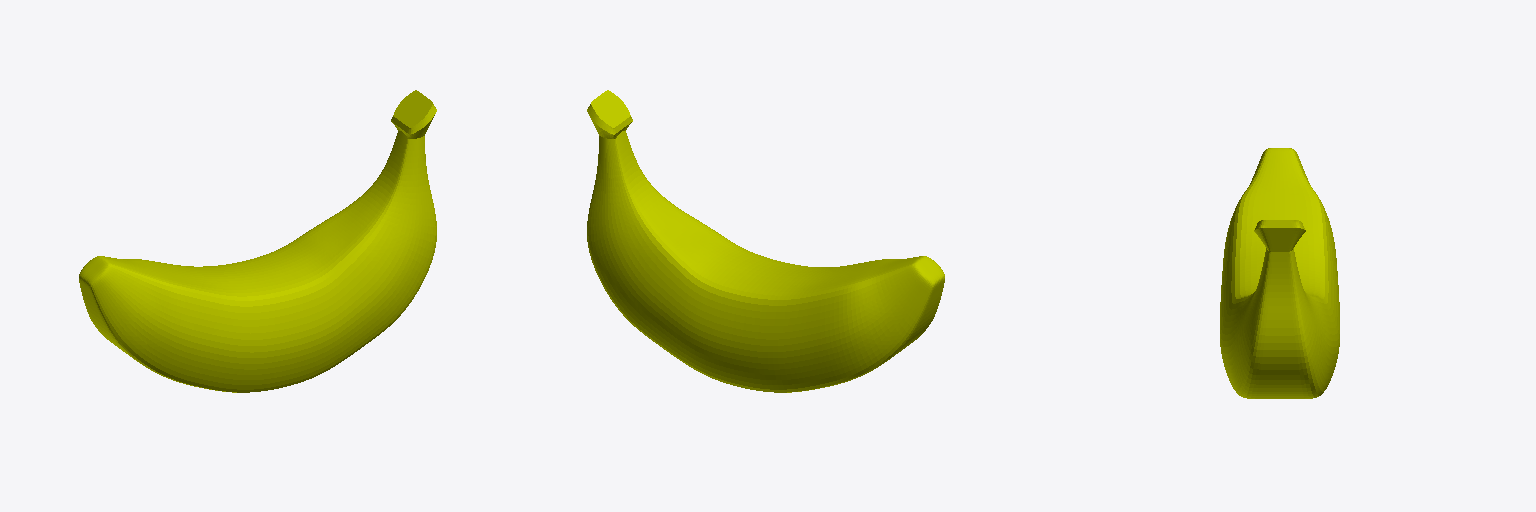
File: Bananas.obj
3 renders of one model, left to right at view 1: azimuth 30°, elevation 25°; view 2: azimuth 150°, elevation 25°; view 3: azimuth 270°, elevation 25°, orthographic.
Visible parts, largest first — view 1: Cube.001_Cube.002; view 2: Cube.001_Cube.002; view 3: Cube.001_Cube.002.
Boxes of the visible parts, box(x1,y1,x2,y2) form: Cube.001_Cube.002: box(79, 90, 436, 392); Cube.001_Cube.002: box(587, 90, 944, 392); Cube.001_Cube.002: box(1220, 148, 1339, 398).
Size of the model in its own units: 0.4751 by 0.314 by 0.1439.